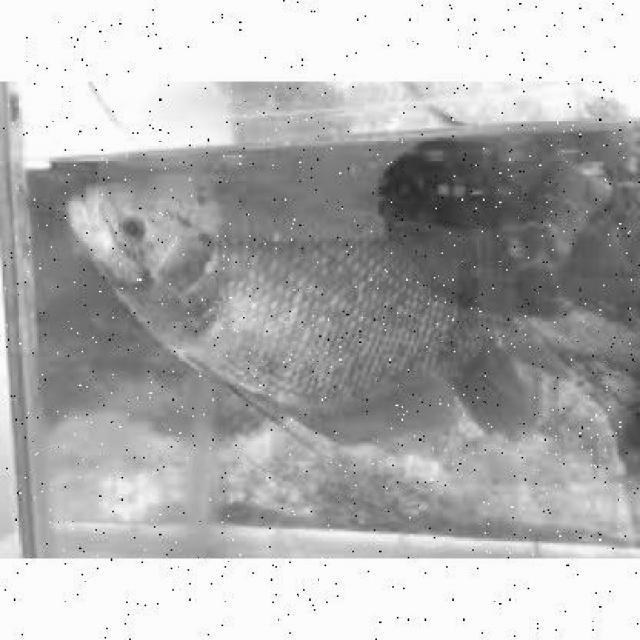gurame: (62, 156, 562, 444)
